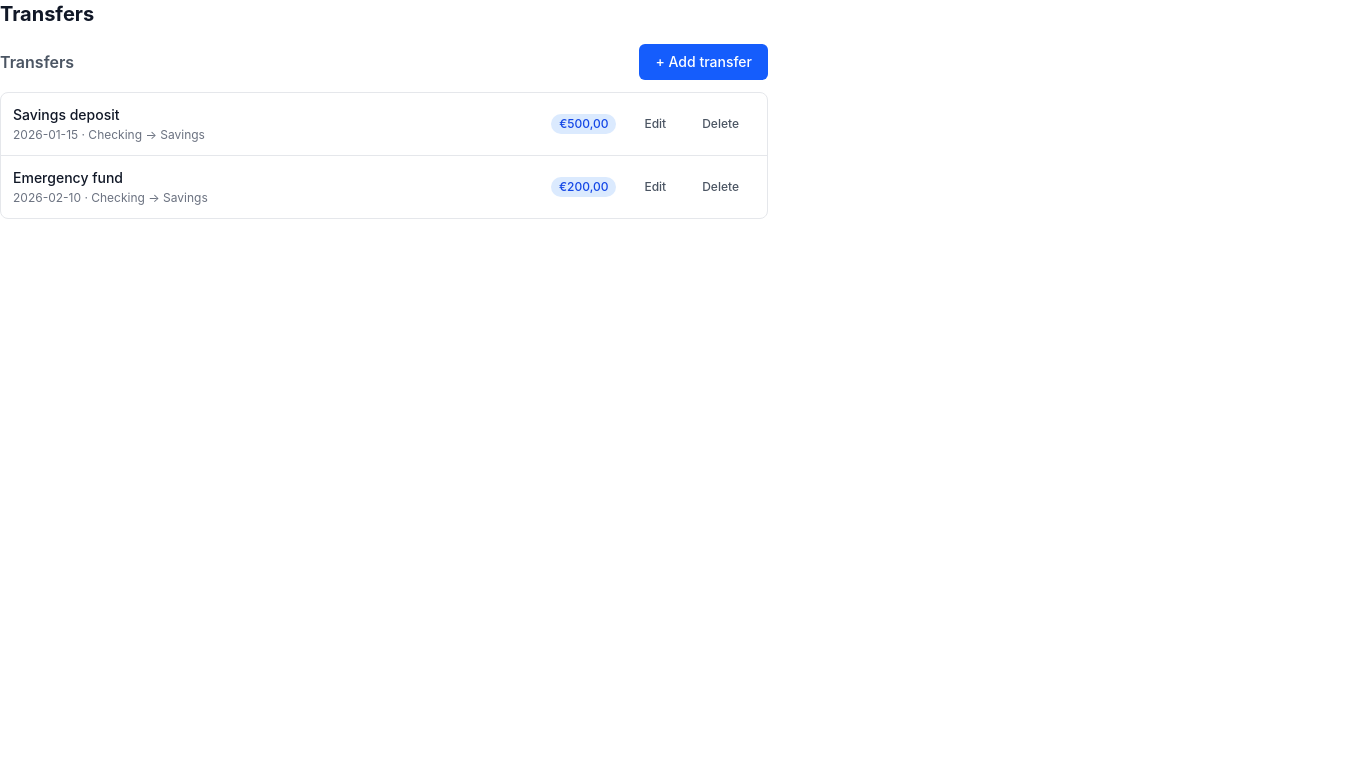
Scenario: TransfersPage opens add form
Click the button "+ Add transfer" at [704, 62], box [640, 44, 768, 80]
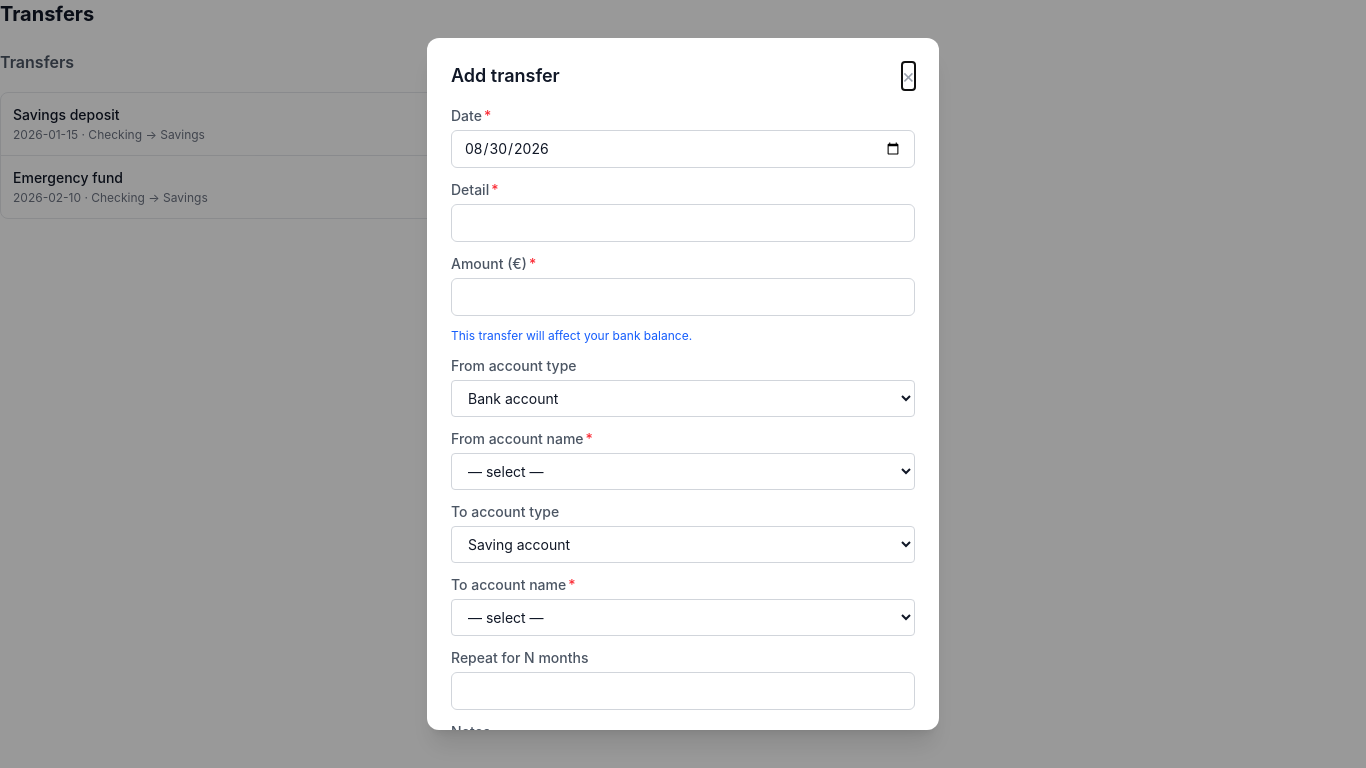
Now the dialog is shown, box [427, 38, 939, 730]
